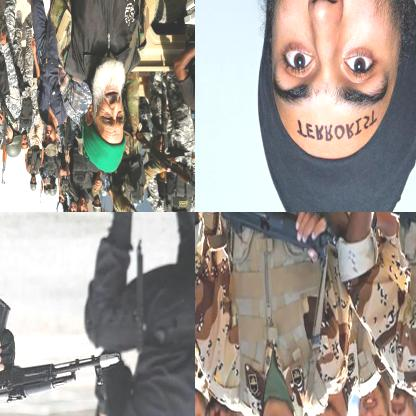rifle: (0, 296, 125, 415), (210, 212, 338, 272), (135, 128, 194, 195), (0, 118, 12, 188), (54, 183, 73, 211)
